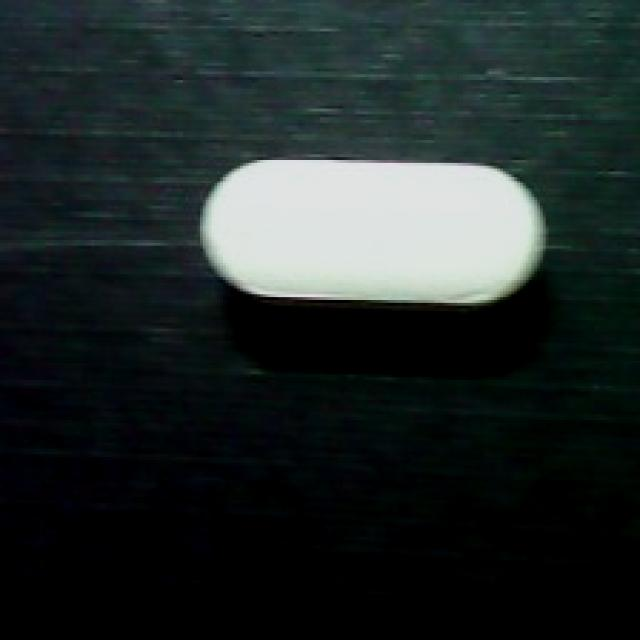no-defect: (191, 149, 563, 317)
